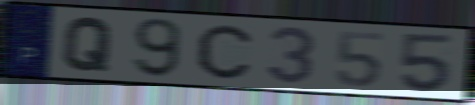3: (264, 24, 317, 87)
5: (399, 32, 457, 94), (333, 30, 386, 89)
9: (128, 16, 184, 80)
C: (195, 23, 255, 81)
Q: (60, 15, 116, 73)
